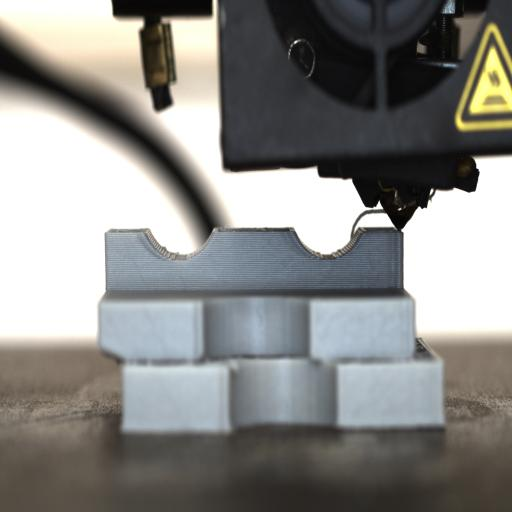layer_shift: (99, 344, 445, 374)
